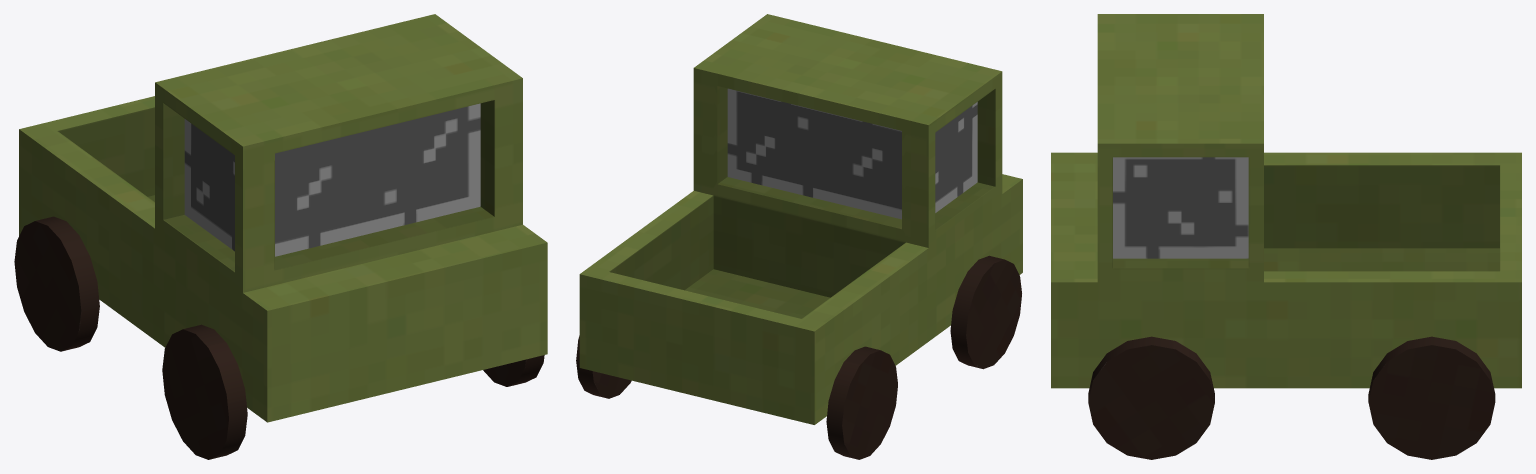
File: Car 3.fbx
The picture shows the model from 3 angles, left to right: view 1: azimuth 30°, elevation 25°; view 2: azimuth 150°, elevation 25°; view 3: azimuth 270°, elevation 25°; orthographic projection. The views are drawn at different scales.
Visible parts, largest first — view 1: Car 3; view 2: Car 3; view 3: Car 3.
Part boxes in pixels (left/top/right/bottom): Car 3: left=14, top=14, right=547, bottom=459; Car 3: left=576, top=14, right=1022, bottom=459; Car 3: left=1051, top=14, right=1521, bottom=459.
Size of the model in its own units: 226 by 222 by 307.
